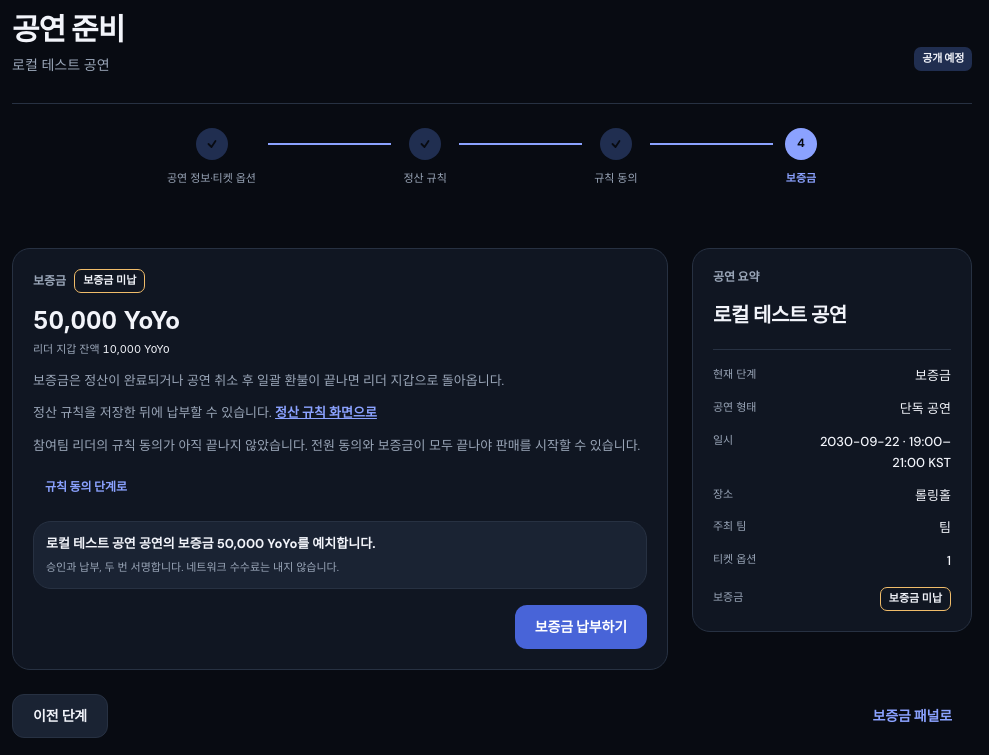
Test: 보증금 확정 실패 경로 › prepare 409 는 code 로 갈린다 › 규칙 미저장이면 규칙 화면으로 보내고 충전 안내는 띄우지 않는다
Click the button "보증금 납부하기" at (581, 627), box [515,605,647,649]
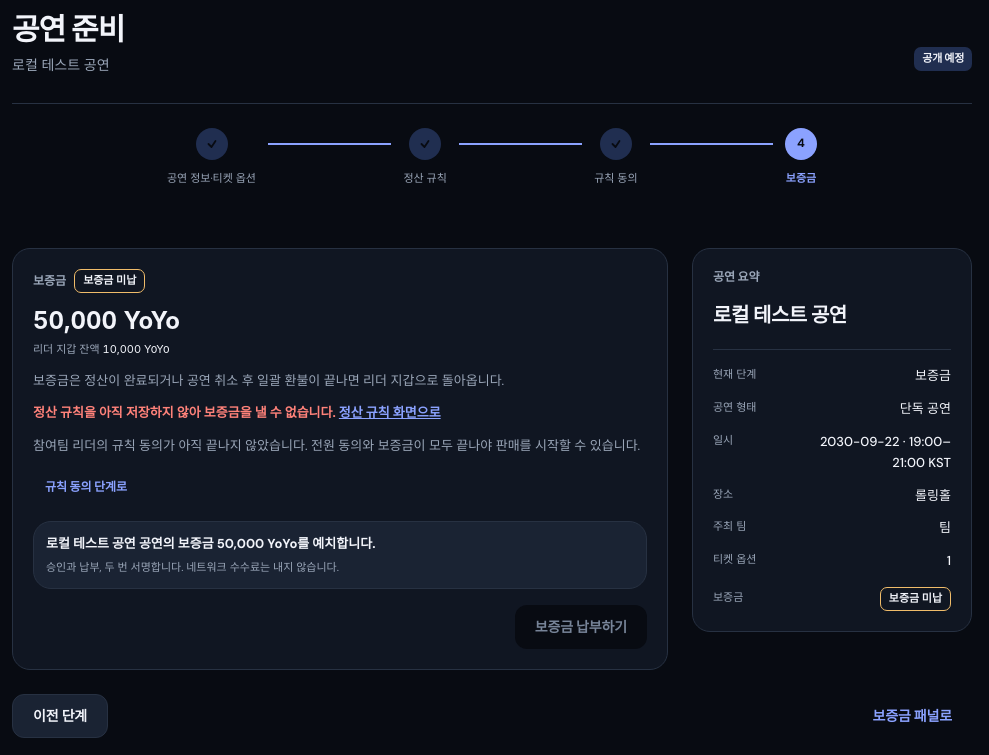
Now the text "정산 규칙을 아직 저장하지 않아 보증금을 낼 수 없습니다. 정산 규칙 화면으로" is shown, box [33,404,441,421]
